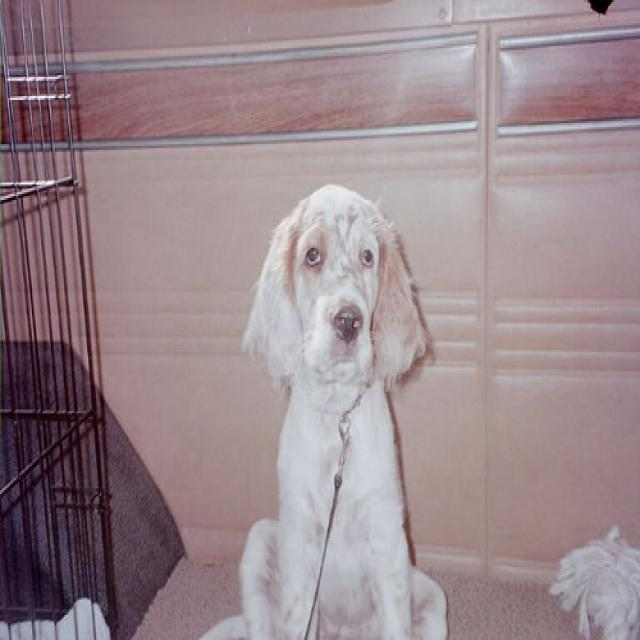dog-english_setter: (236, 175, 451, 636)
